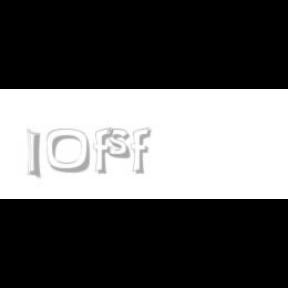I: (28, 128, 42, 180), (26, 128, 39, 180)
O: (46, 128, 92, 174)
f: (93, 128, 117, 174), (131, 128, 155, 174)
s: (107, 128, 135, 160)
